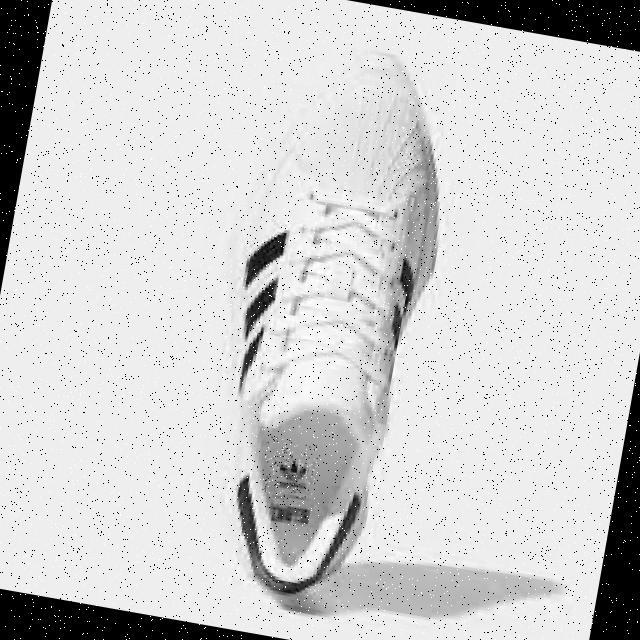Adidas: (259, 436, 322, 502)
